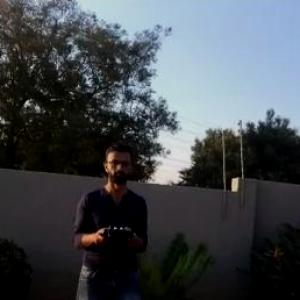follow: (66, 137, 152, 299)
